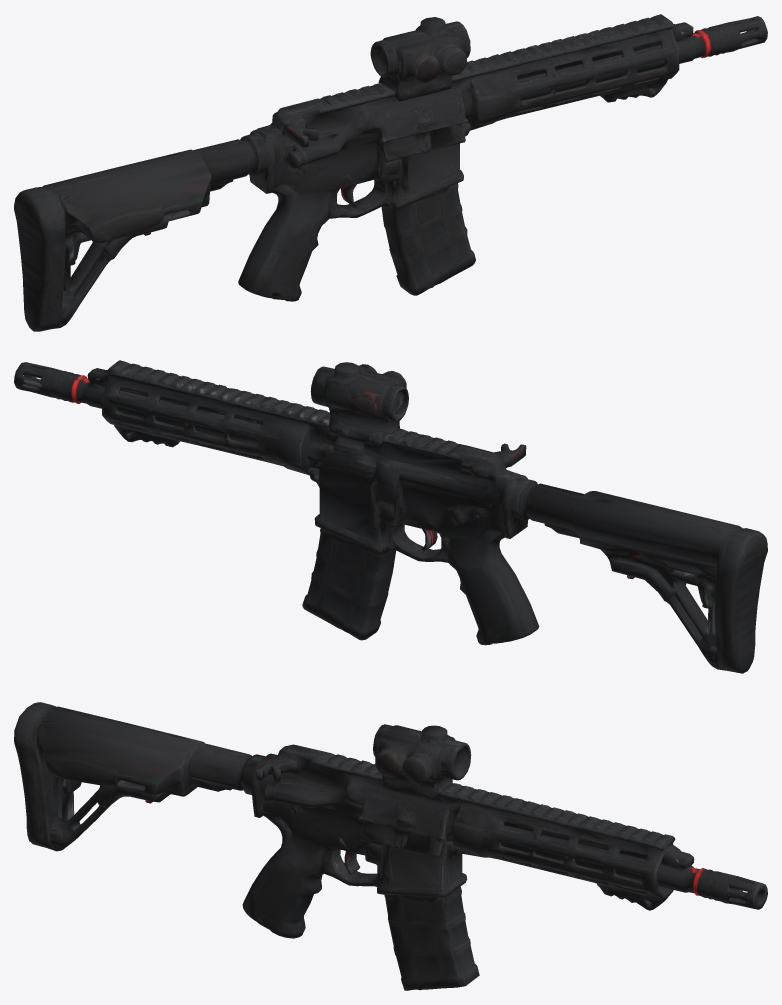
Rendered from carbine.glb.
3 renders of one model, top to bottom at view 1: azimuth 30°, elevation 25°; view 2: azimuth 150°, elevation 25°; view 3: azimuth 330°, elevation 25°, orthographic.
Parts seen in each view (by area): view 1: carbine; view 2: carbine; view 3: carbine.
Boxes of the visible parts, <box> form: carbine: <box>14,14,767,331</box>; carbine: <box>14,360,767,673</box>; carbine: <box>14,702,767,990</box>.
Size of the model in its own units: 0.8499 by 0.2903 by 0.081.
Materials: 1 (1 with a texture image).
